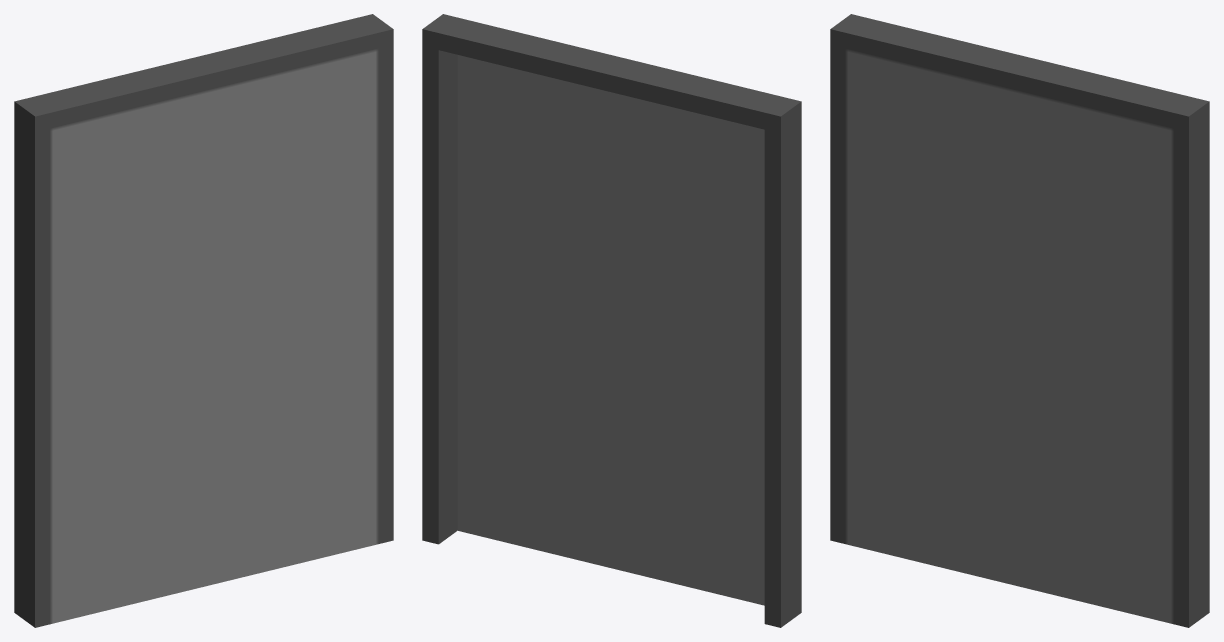
The model's file is Frame_Gray.fbx.
3 renders of one model, left to right at view 1: azimuth 30°, elevation 25°; view 2: azimuth 150°, elevation 25°; view 3: azimuth 330°, elevation 25°, orthographic.
Visible parts, largest first — view 1: Frame_Gray; view 2: Frame_Gray; view 3: Frame_Gray.
Part boxes in pixels (left/top/right/bottom): Frame_Gray: left=14, top=14, right=393, bottom=627; Frame_Gray: left=422, top=14, right=801, bottom=627; Frame_Gray: left=830, top=14, right=1209, bottom=627.
Bounding box in the file's own units: 110 × 150 × 11.
1 material, 1 textured.
